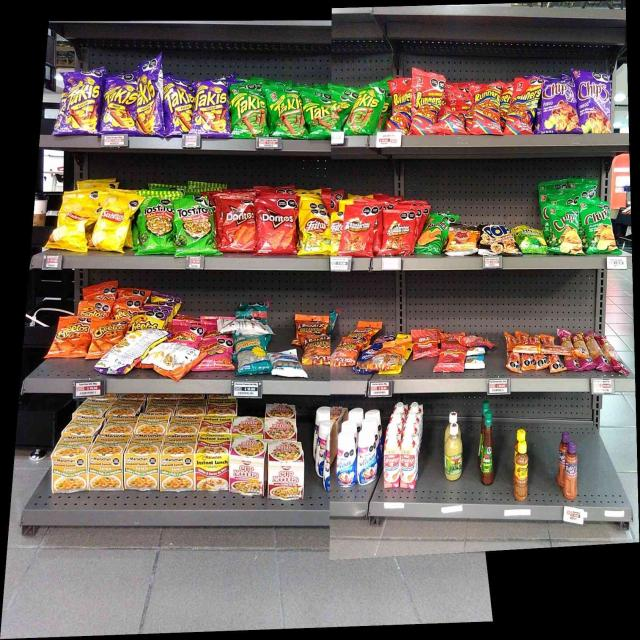bitzAlmendras: (465, 355, 485, 370)
bitzEnchilado90: (413, 330, 438, 357), (438, 348, 465, 372)
bitzEnchilado95: (506, 332, 558, 373)
bitzHabanero: (564, 330, 615, 370)
bokadosCacahuates: (362, 347, 379, 362)
botaneraChilito: (514, 440, 528, 501)
cheetosFlaminHot: (130, 309, 163, 329)
cheetosOriginal: (57, 321, 90, 355), (92, 321, 123, 348)
chipsFuego: (578, 74, 610, 132), (544, 80, 576, 130)
chipsJalapeno: (584, 205, 610, 252), (554, 208, 579, 254), (516, 225, 544, 251)
churrumais: (201, 340, 230, 368), (170, 326, 200, 346)
delPrimoSalsa: (444, 423, 463, 480)
doritosNacho: (143, 200, 174, 253), (258, 207, 294, 252), (224, 204, 255, 248)
fritosLimon: (304, 215, 330, 252), (331, 217, 343, 250)
leoCacahuates: (268, 352, 306, 378)
leoMix: (307, 335, 330, 365), (335, 339, 361, 363), (297, 317, 326, 333)
maruchanPollo: (54, 436, 89, 492), (91, 434, 124, 492), (127, 434, 161, 490), (162, 435, 194, 490)
maruchanRes: (196, 434, 229, 490)
nestleCarnation: (383, 439, 400, 490), (401, 442, 418, 489)
nestleLechera: (335, 432, 357, 487), (358, 429, 378, 484)
nissinRes: (232, 437, 265, 496), (271, 443, 301, 499)
popKarameladas: (483, 223, 515, 255), (447, 230, 478, 253)
productoAtras: (149, 348, 196, 372)
rancheritos: (345, 213, 372, 252), (386, 214, 414, 250)
rufflesQueso: (424, 218, 447, 253)
runners: (415, 75, 440, 131), (510, 82, 534, 134), (476, 86, 500, 133), (392, 80, 411, 130)
sabritasOriginal: (96, 200, 125, 247), (57, 209, 86, 249)
salsaBufalo: (479, 409, 495, 484)
semillasGirasol: (236, 338, 268, 373)
tajinDulce: (564, 441, 578, 500)
takisFuego: (67, 74, 100, 134), (104, 81, 136, 133), (195, 84, 227, 135), (164, 78, 192, 134), (137, 71, 161, 132)
takisOriginal: (271, 91, 303, 136), (235, 90, 265, 136), (305, 97, 331, 137), (354, 90, 379, 131)
tostitos: (177, 204, 213, 252)
